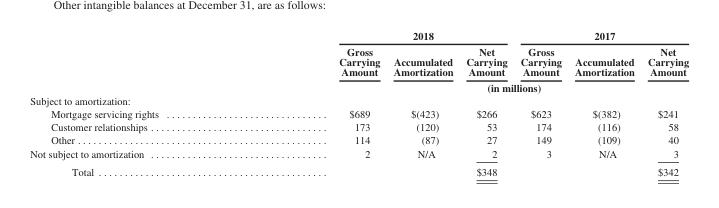table: (29, 29, 688, 177)
table column: (29, 29, 248, 177), (248, 29, 386, 177), (567, 29, 640, 177), (386, 29, 458, 177), (458, 29, 513, 177), (513, 29, 567, 177), (640, 29, 688, 177)
table column header: (29, 29, 688, 94)
table projected row header: (29, 94, 688, 107)
table row: (29, 42, 688, 79), (29, 146, 688, 162), (29, 79, 688, 94), (29, 162, 688, 177), (29, 29, 688, 42), (29, 94, 688, 107), (29, 107, 688, 120), (29, 120, 688, 133), (29, 133, 688, 146)
table spanning cell: (248, 79, 688, 94), (248, 29, 513, 42), (513, 29, 688, 42)
